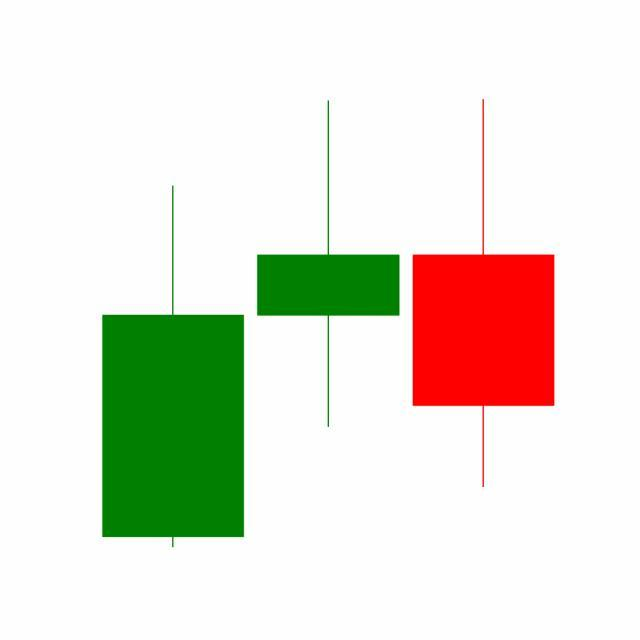Spinning Top: (250, 98, 407, 432)
